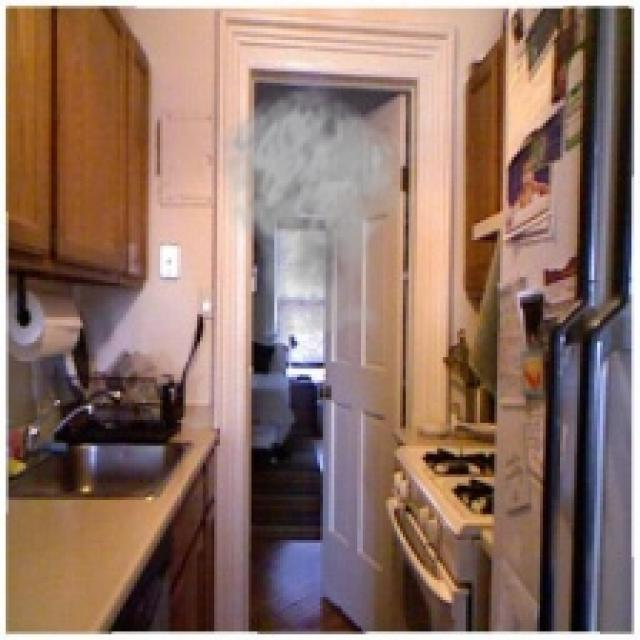Smoke: (212, 82, 418, 358)
